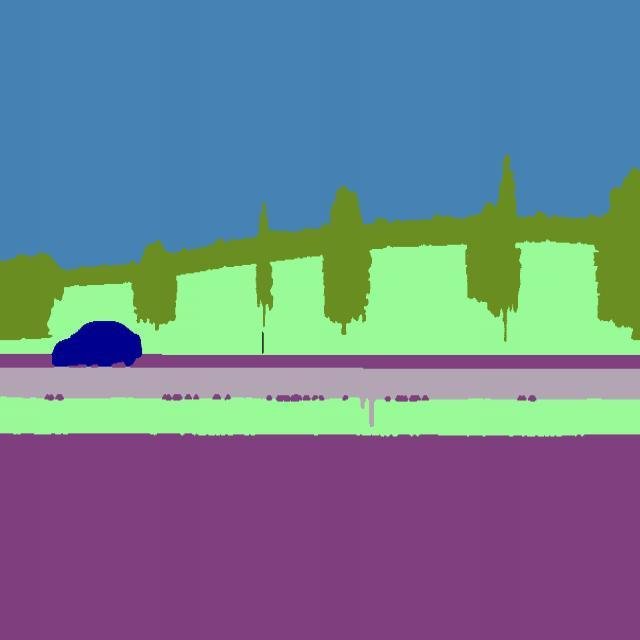safe: (47, 314, 148, 376)
